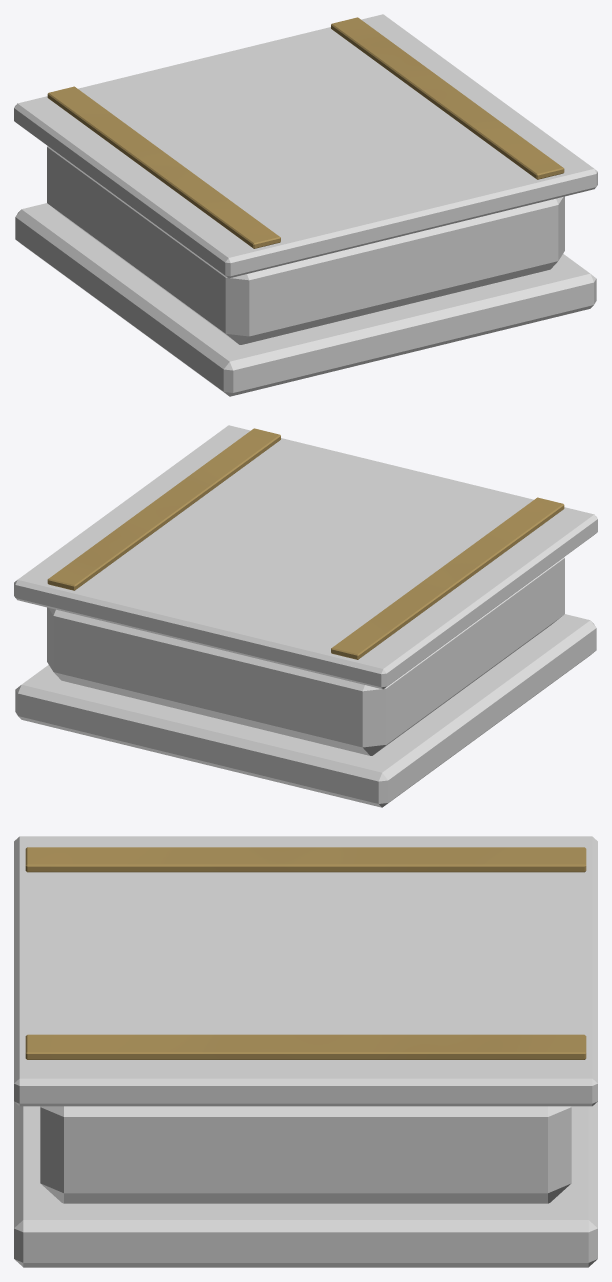
The model's file is WarrensC_WVC028_KeyLoftPlinth_Mars_SM.fbx.
3 renders of one model, top to bottom at view 1: azimuth 30°, elevation 25°; view 2: azimuth 150°, elevation 25°; view 3: azimuth 270°, elevation 25°, orthographic. The views are drawn at different scales.
Visible parts, largest first — view 1: WarrensC_WVC028_KeyLoftPlinth_Mars_SM.001; view 2: WarrensC_WVC028_KeyLoftPlinth_Mars_SM.001; view 3: WarrensC_WVC028_KeyLoftPlinth_Mars_SM.001.
Part boxes in pixels (x1,y1,x2,y2): WarrensC_WVC028_KeyLoftPlinth_Mars_SM.001: (14, 14, 597, 396); WarrensC_WVC028_KeyLoftPlinth_Mars_SM.001: (14, 425, 597, 807); WarrensC_WVC028_KeyLoftPlinth_Mars_SM.001: (14, 836, 597, 1267).
Bounding box in the file's own units: 80 × 80 × 30.
